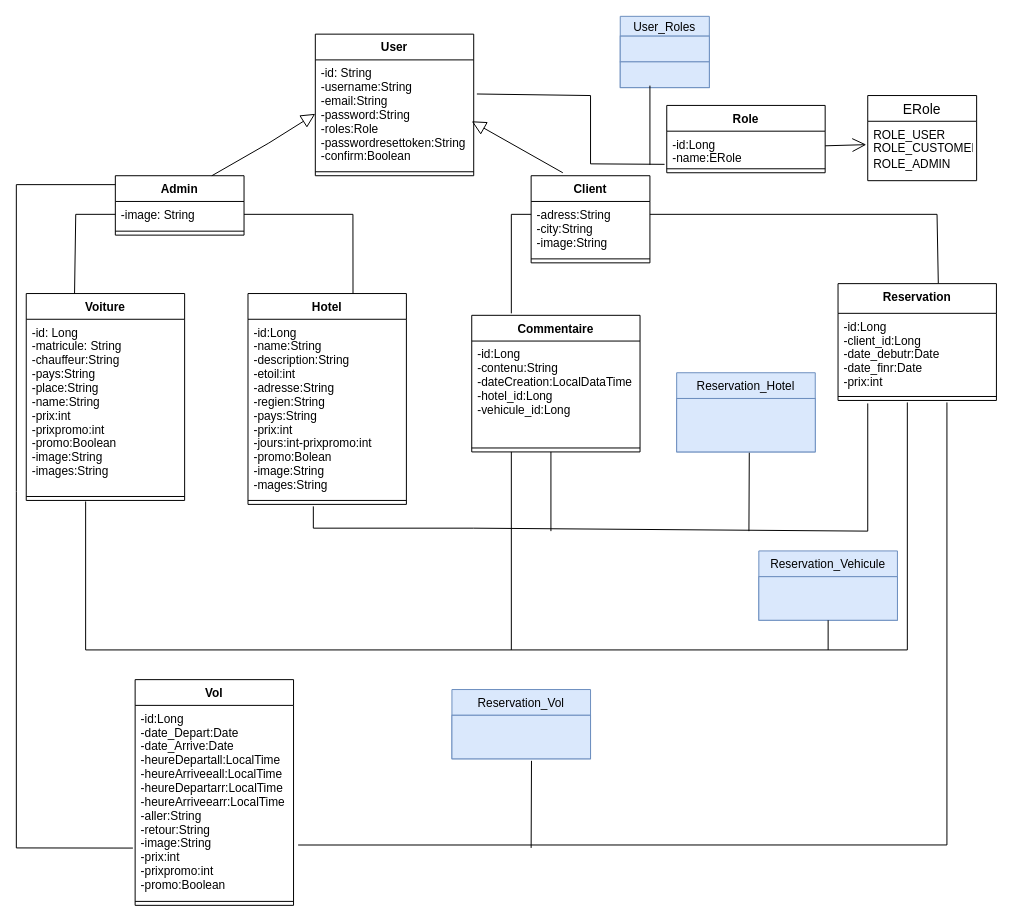
This 1013x922 diagram has some shape labels left out. Each missing label, with the centre of its shape:
-reservation_id:Long -hotel_id:Long: pixel 745 424
-reservation_id:Long -vehicule_id:Long: pixel 827 598
-reservation_id:Long -vol_id:Long: pixel 521 736
-role_id:Long: pixel 664 74
-user_id:Long: pixel 664 48
